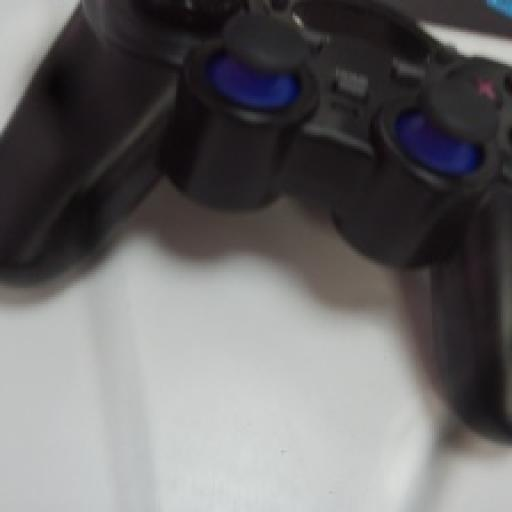game pad: (0, 0, 510, 439)
